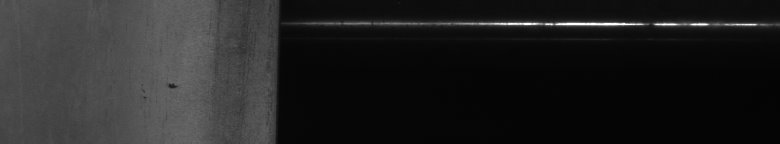fi: (143, 80, 179, 99)
